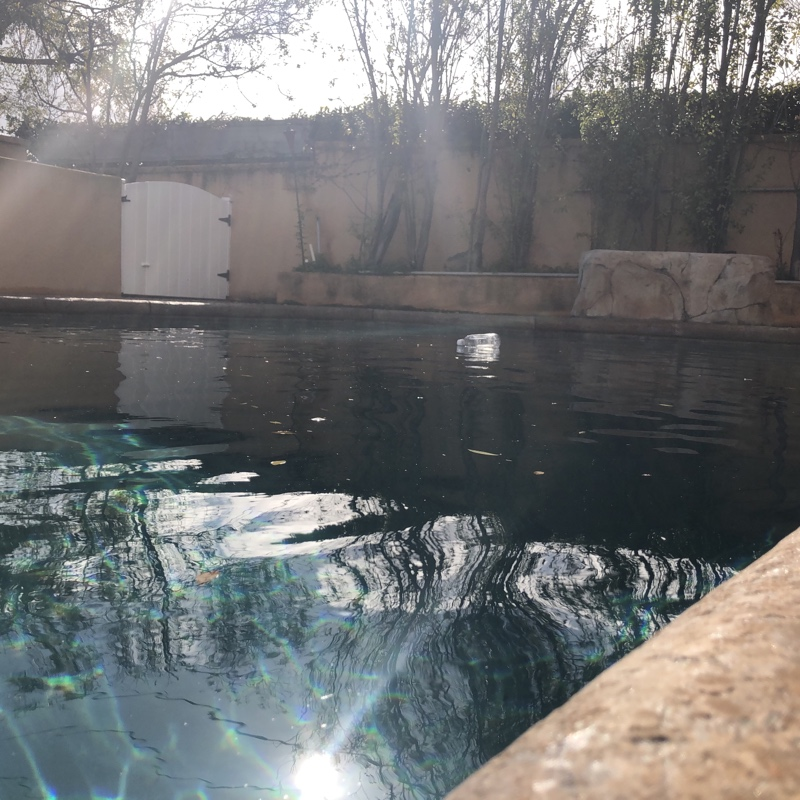Plastic Bottle: (455, 327, 501, 348)
